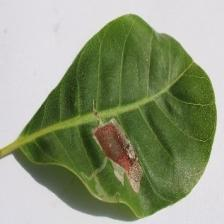leaf miner: (0, 13, 218, 219), (90, 100, 142, 193)
